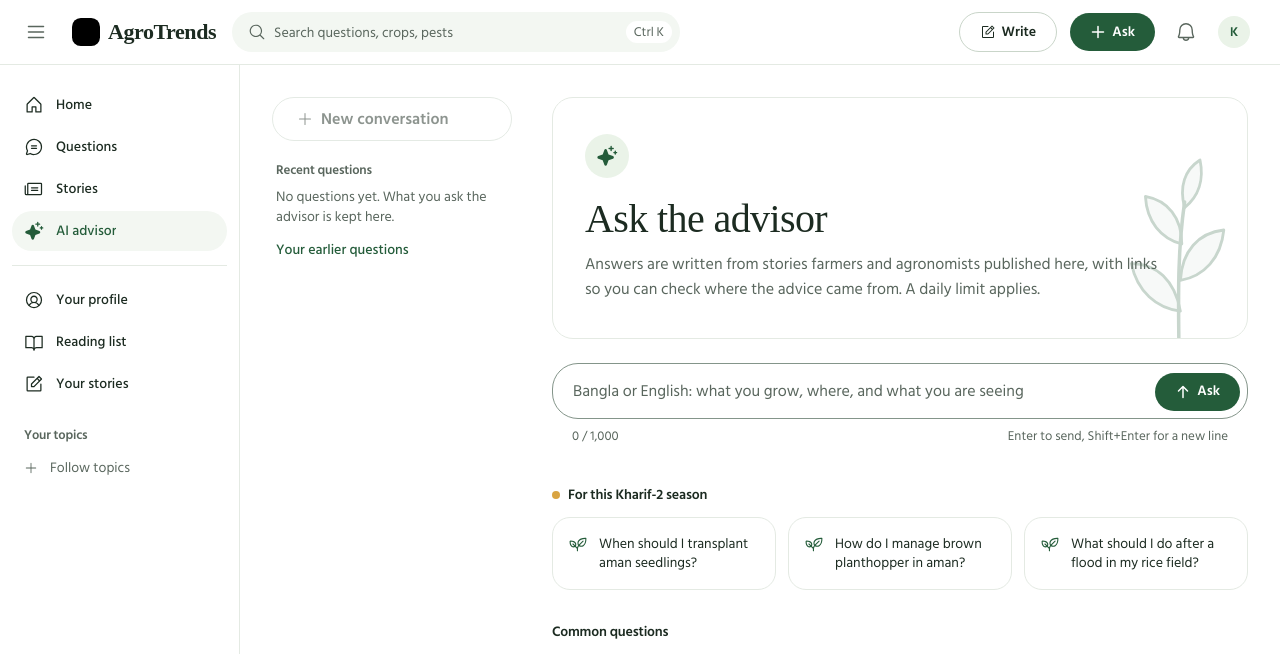
citation markers point at the sources, and a suggested follow-up fills the ask bar
The width and height of the screenshot is (1280, 654).
In the text box named "Your question": (860, 391) [573,370,1146,412], type "Fish gasping"
Then press Enter
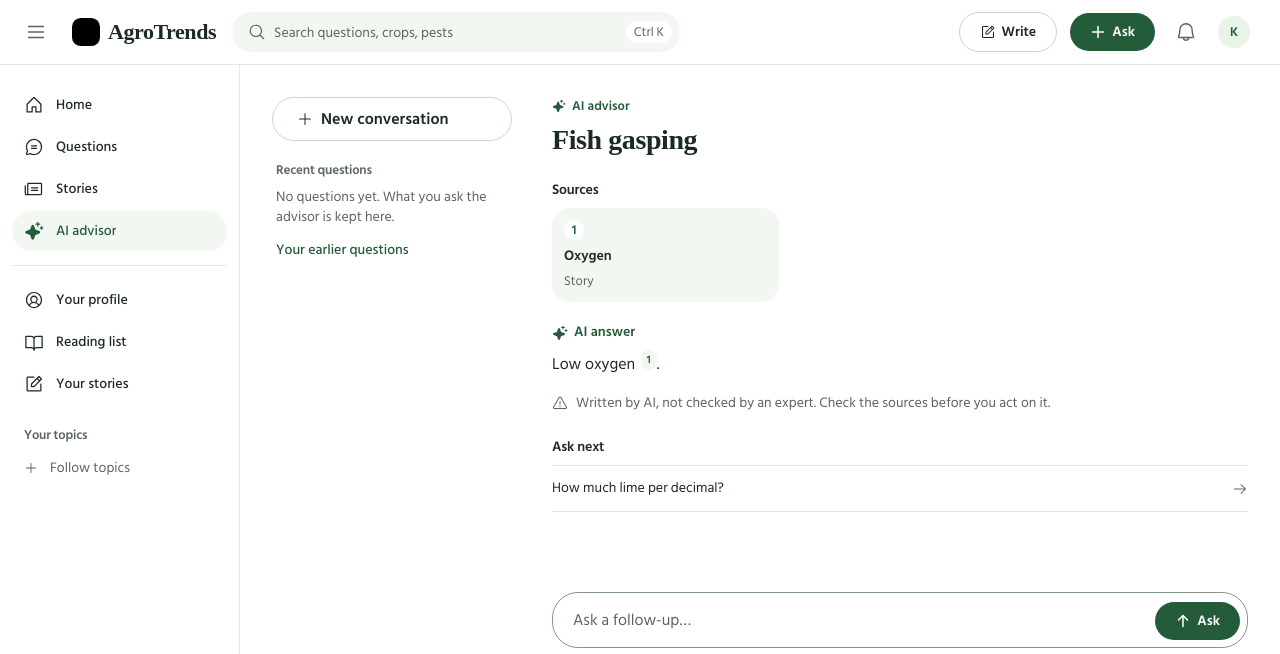
Check: the text named "source 1" reads "1", box [647,351,651,369]
Click the button "How much lime per decimal?": (638, 488) [552,466,1248,512]
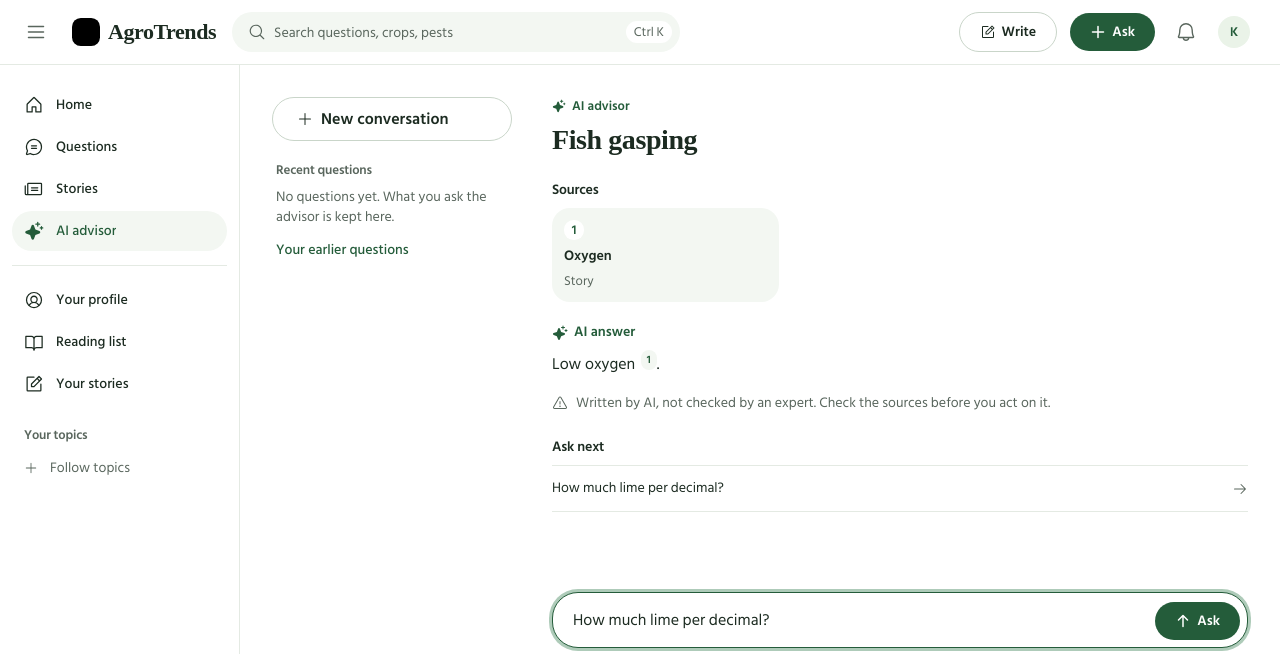
Check: the text box named "Ask another question" holds "How much lime per decimal?", box [573,599,1146,641]
